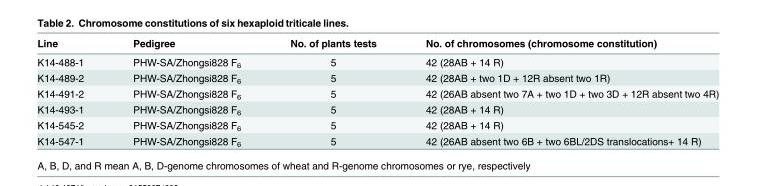table: (36, 36, 718, 147)
table column: (400, 36, 718, 147), (107, 36, 264, 147), (264, 36, 400, 147), (36, 36, 107, 147)
table column header: (36, 36, 718, 52)
table row: (36, 52, 718, 70), (36, 36, 718, 52), (36, 85, 718, 101), (36, 101, 718, 117), (36, 117, 718, 133), (36, 70, 718, 85), (36, 133, 718, 147)
